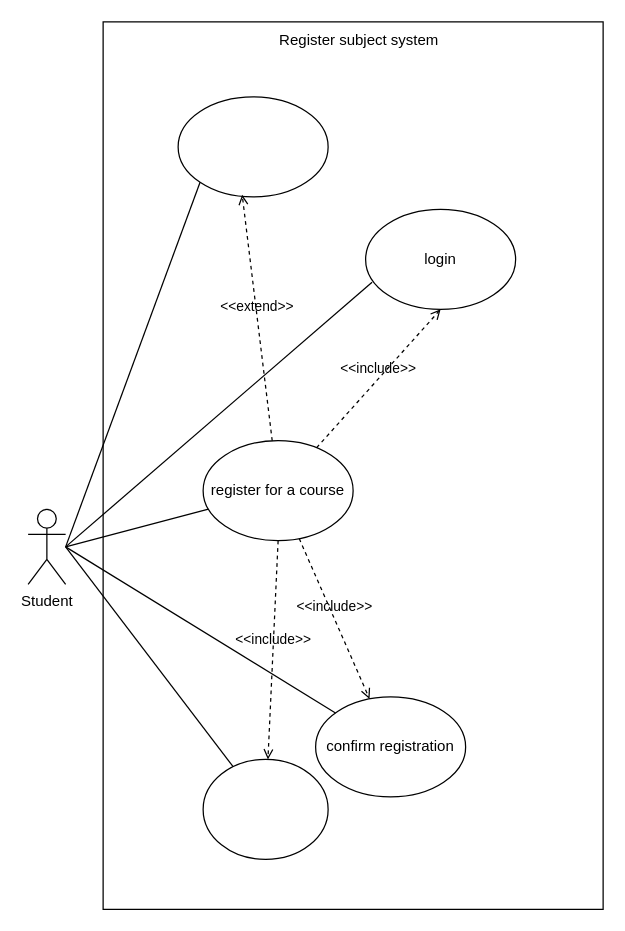
Some shapes in this 625 by 931 pixel diagram are drawn without their labels. The shapes that lost their labels are listed below. From the top down, each one's centre as x and y in pixels, then its label:
At point (252, 146): "view overlapping courses".
At point (265, 808): "Check class schedule".
